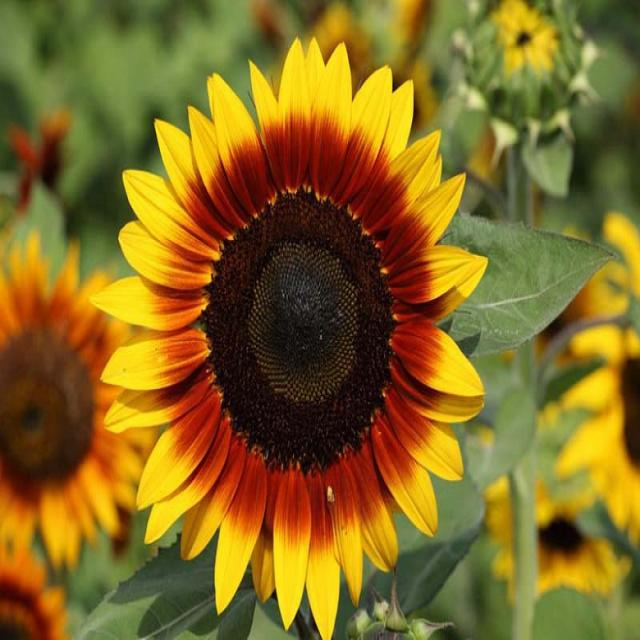sunflower: (85, 32, 490, 640), (0, 221, 165, 573)
